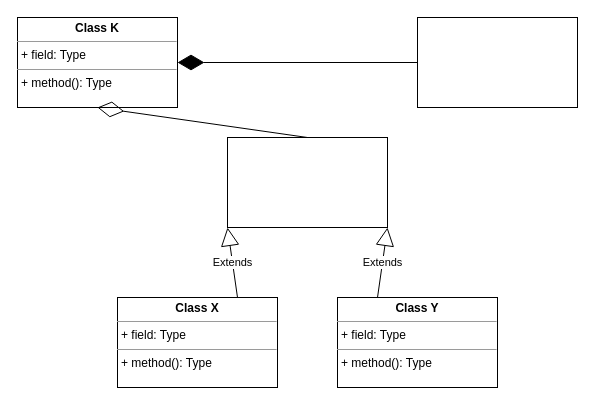
This 595x405 diagram has some shape labels left out. The centre of each missing label's shape, as x and y in pixels:
"Class L + field: Type + method(): Type" belongs at point (497, 62).
"Class M + field: Type + method(): Type" belongs at point (307, 182).
